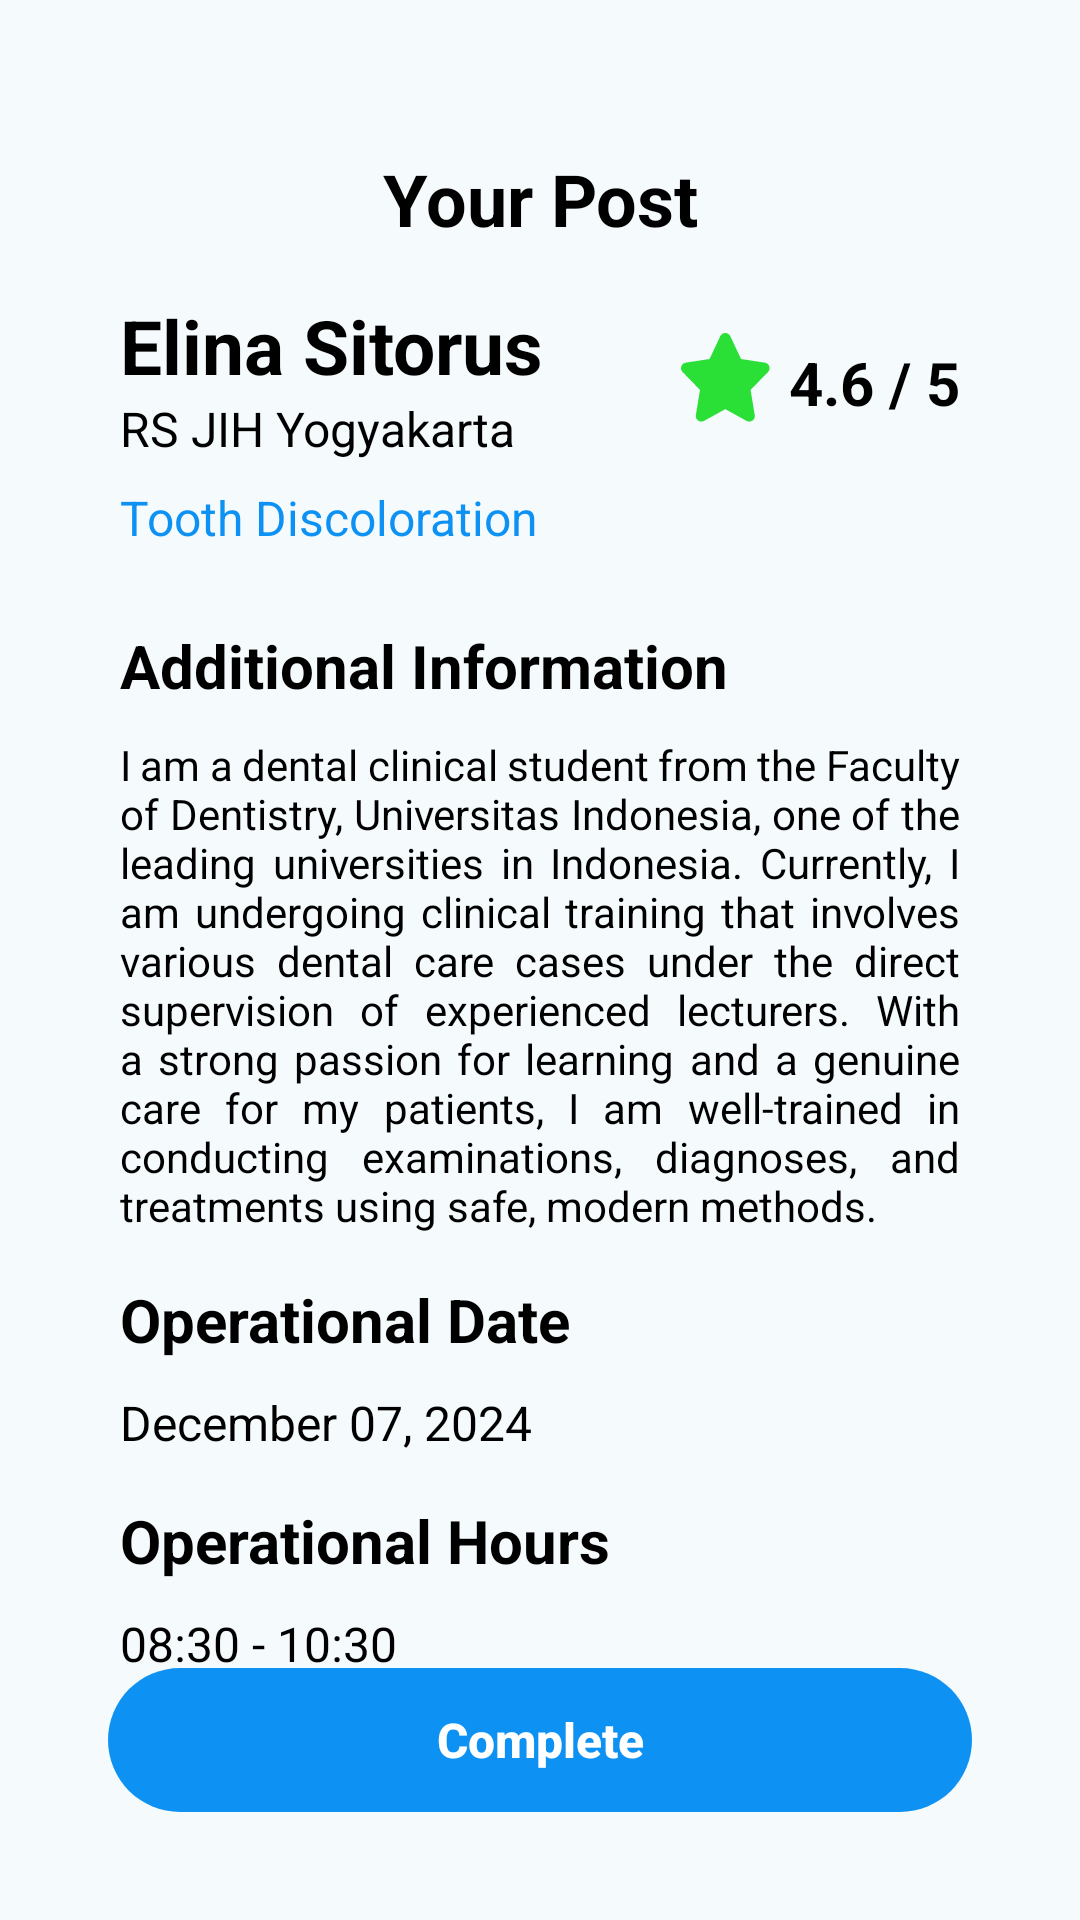

Screen size 1080w x 1920h. Icon name, then its center in pixels as [x,y]:
star: [725,377]
